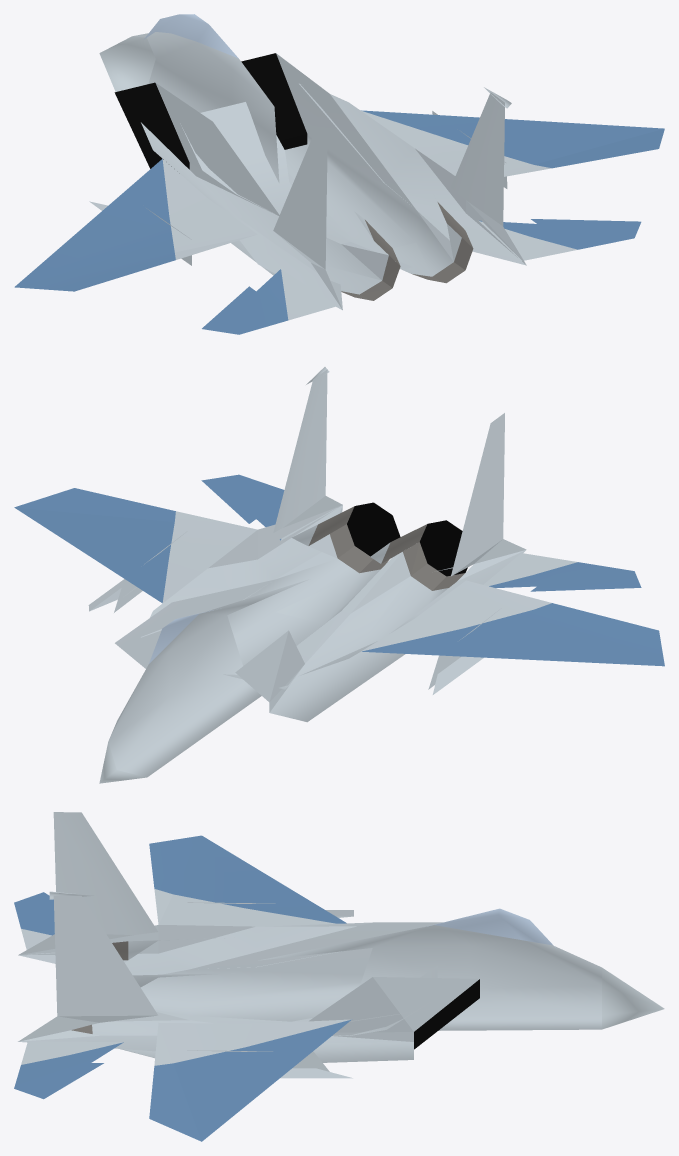
Rendered from ps2_save-icons_ace-combat-zero.glb.
3 views of the same model, one above another, from view 1: azimuth 30°, elevation 25°; view 2: azimuth 150°, elevation 25°; view 3: azimuth 270°, elevation 25° (orthographic). The views are drawn at different scales.
Visible parts, largest first — view 1: icon1.ico; view 2: icon1.ico; view 3: icon1.ico.
Part boxes in pixels (left/top/right/bottom): icon1.ico: left=14, top=14, right=664, bottom=334; icon1.ico: left=14, top=367, right=664, bottom=783; icon1.ico: left=14, top=812, right=664, bottom=1141.
Size of the model in its own units: 4.85 by 1.36 by 4.36.
Materials: 1 (1 with a texture image).
